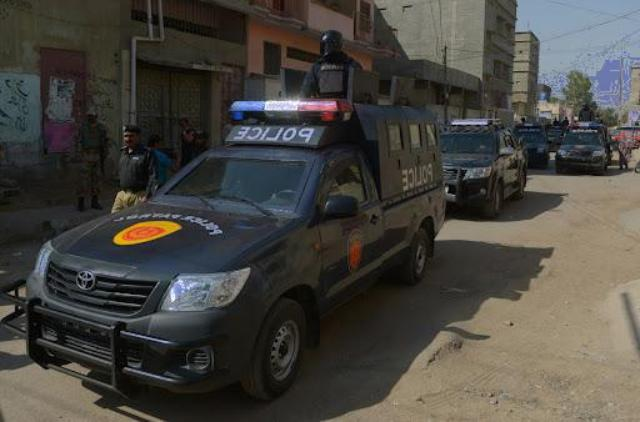police_car: (24, 101, 445, 398)
